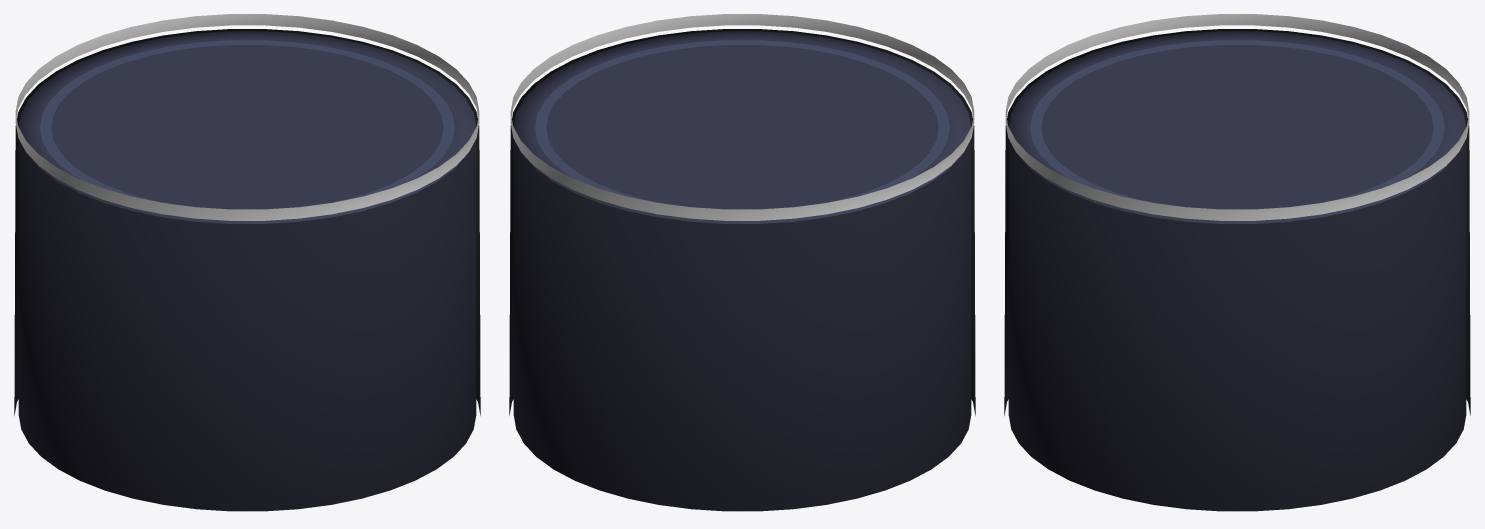
File: Podium_2.fbx
3 views of the same model, side by side, from view 1: azimuth 30°, elevation 25°; view 2: azimuth 150°, elevation 25°; view 3: azimuth 270°, elevation 25° (orthographic).
Parts seen in each view (by area): view 1: Cylinder, DottedLine; view 2: Cylinder, DottedLine; view 3: Cylinder, DottedLine.
Part boxes in pixels (x1=…): Cylinder: x1=14, y1=29, x2=480, y2=511; DottedLine: x1=15, y1=14, x2=479, y2=220; Cylinder: x1=509, y1=29, x2=975, y2=511; DottedLine: x1=510, y1=14, x2=974, y2=220; Cylinder: x1=1004, y1=29, x2=1470, y2=511; DottedLine: x1=1005, y1=14, x2=1469, y2=220.
Size of what is drawn, in the model's own units: 8.57 by 6.21 by 8.59.
